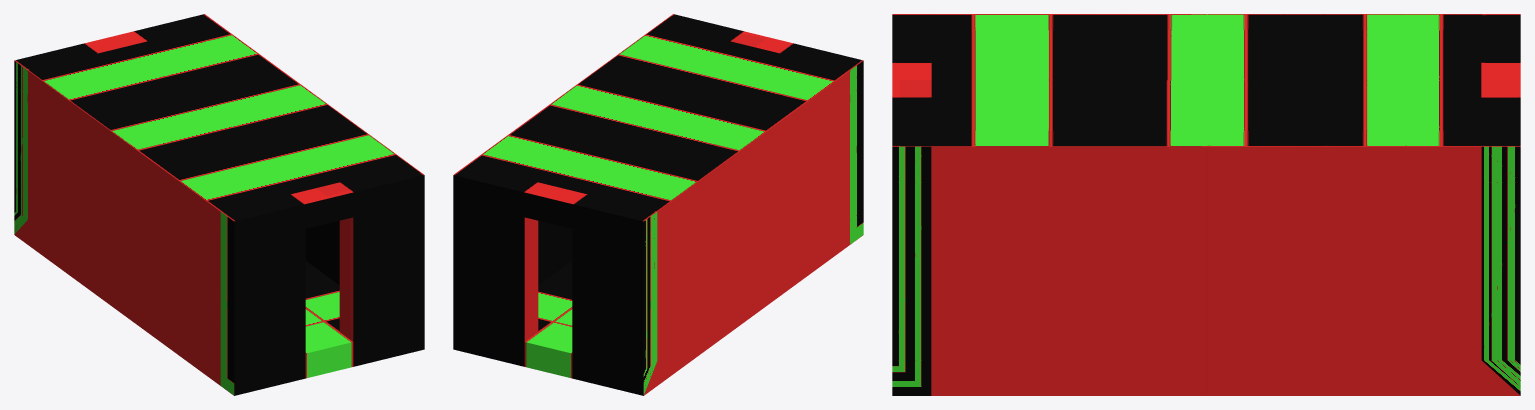
File: Corridor1.dae
3 views of the same model, side by side, from view 1: azimuth 30°, elevation 25°; view 2: azimuth 150°, elevation 25°; view 3: azimuth 270°, elevation 25° (orthographic). The views are drawn at different scales.
Visible parts, largest first — view 1: Plane; view 2: Plane; view 3: Plane.
Part boxes in pixels (box(x1,y1,x2,y2)): Plane: box(14, 14, 424, 395); Plane: box(453, 14, 863, 395); Plane: box(892, 14, 1520, 395).
Size of the model in its own units: 8 by 16 by 7.
Materials: 1 (1 with a texture image).
